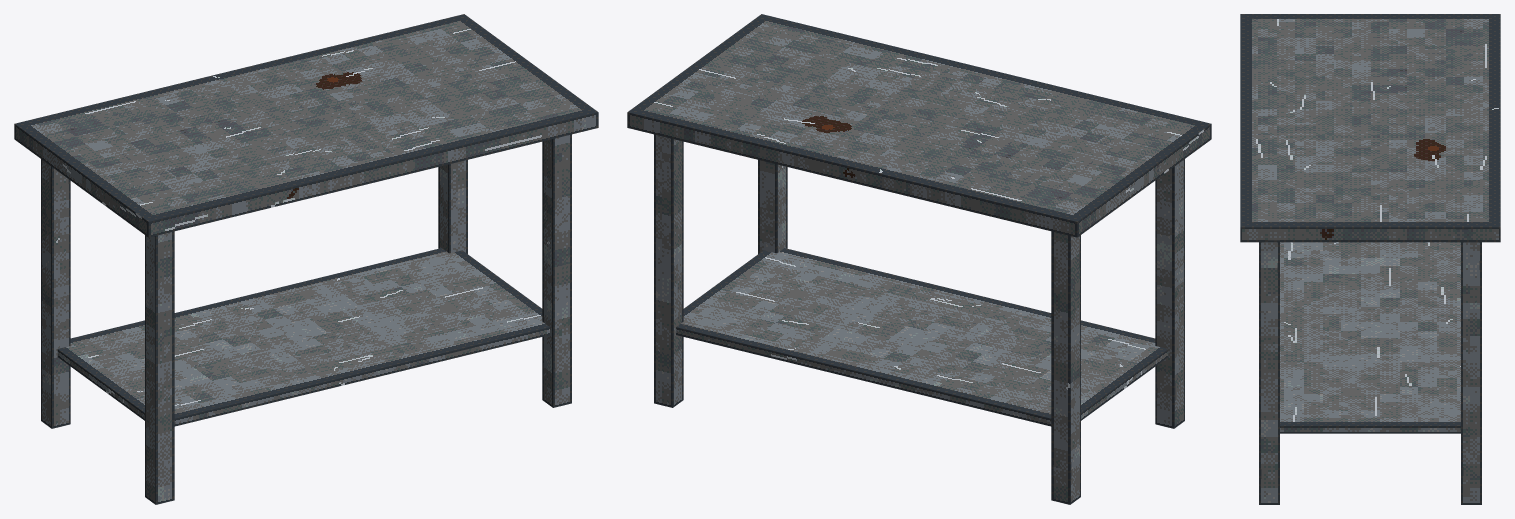
File: SM_Table_Steel_01.glb
3 views of the same model, side by side, from view 1: azimuth 30°, elevation 25°; view 2: azimuth 150°, elevation 25°; view 3: azimuth 270°, elevation 25° (orthographic). The views are drawn at different scales.
Visible parts, largest first — view 1: SM_Table_Steel_01; view 2: SM_Table_Steel_01; view 3: SM_Table_Steel_01.
Boxes of the visible parts, x1,y1,x2,y2 form: SM_Table_Steel_01: (14,14,598,504); SM_Table_Steel_01: (627,14,1211,504); SM_Table_Steel_01: (1240,14,1500,504).
Bounding box in the file's own units: 1.2 × 0.75 × 0.62.
Materials: 1 (1 with a texture image).
